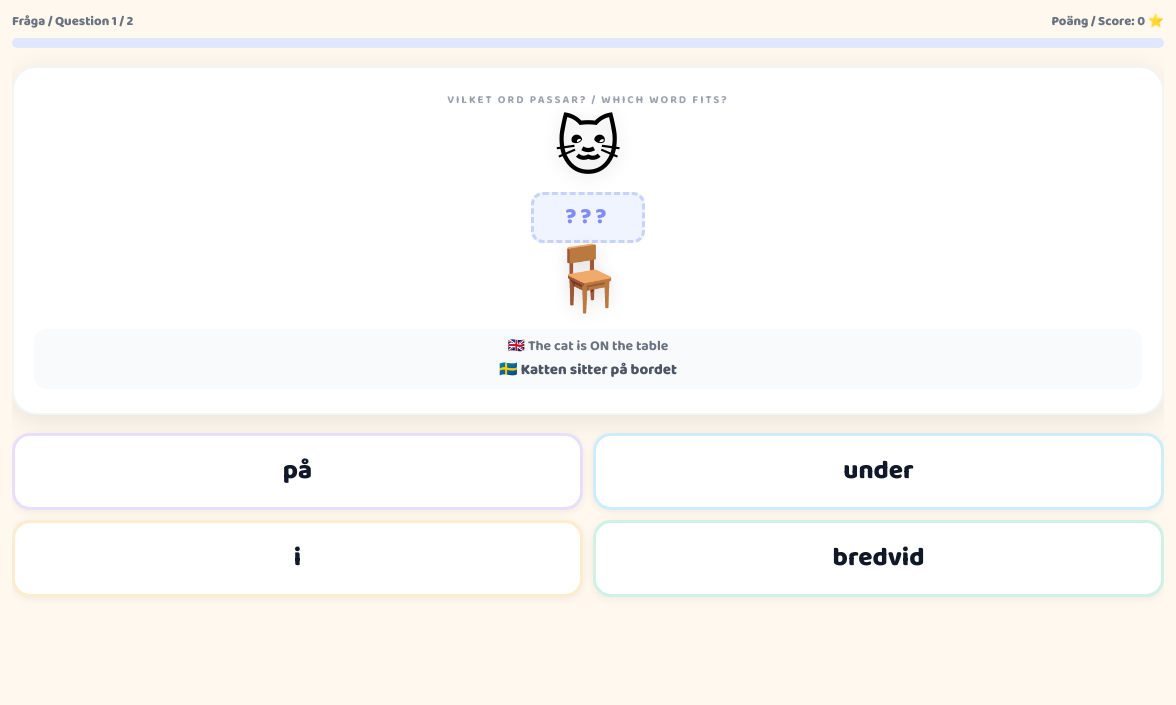
it: QuizGame › shows positive feedback on correct answer
The image size is (1176, 705).
Click the button with test id "quiz-option-på". click: x=298, y=471
box: [12,433,583,510]
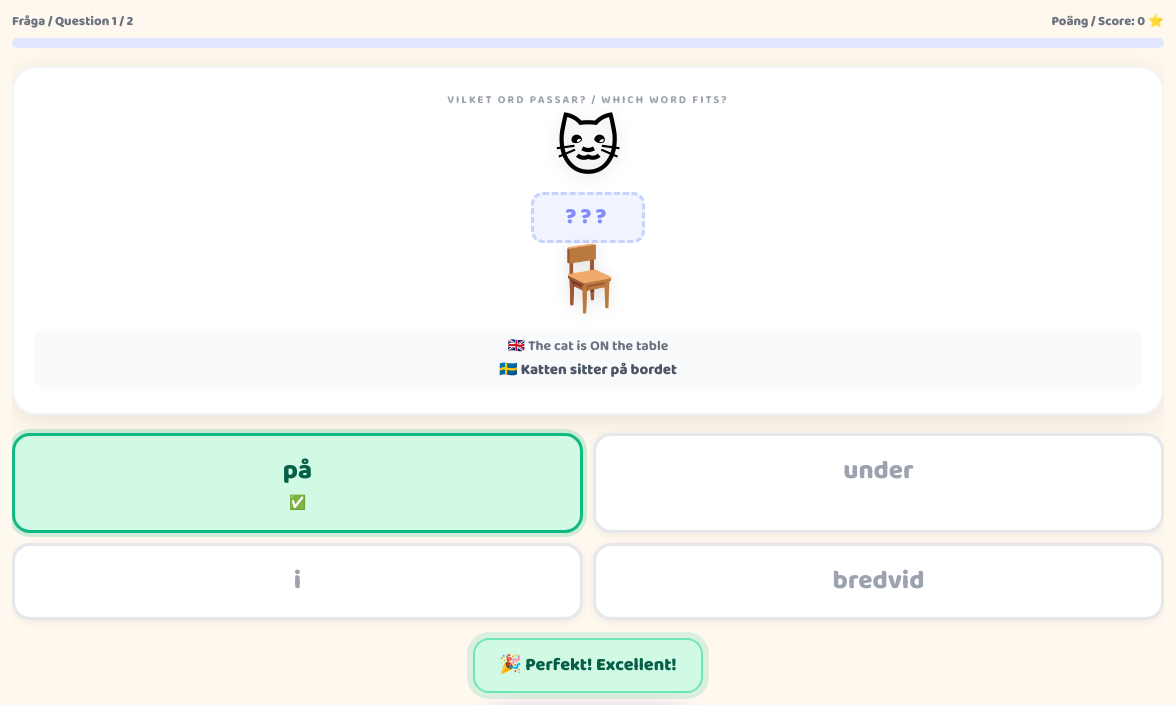
Expected: the text "🎉 Perfekt! Excellent!" is shown, [473,638,703,693]
